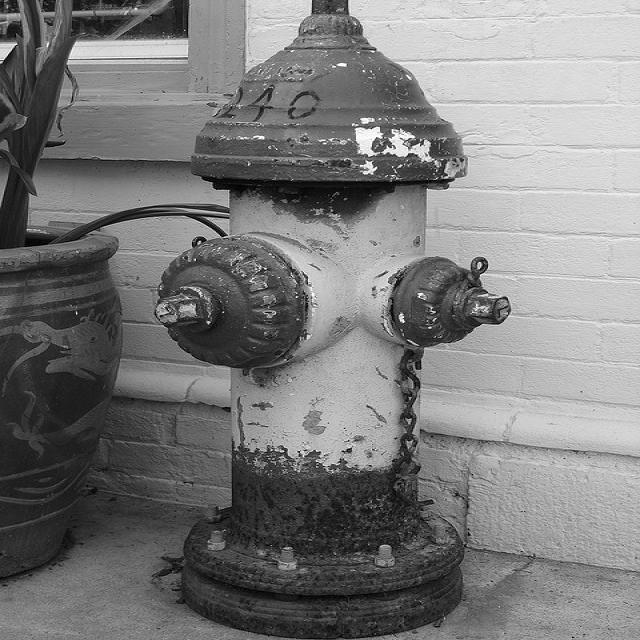fire_hydrant: (156, 0, 510, 640)
